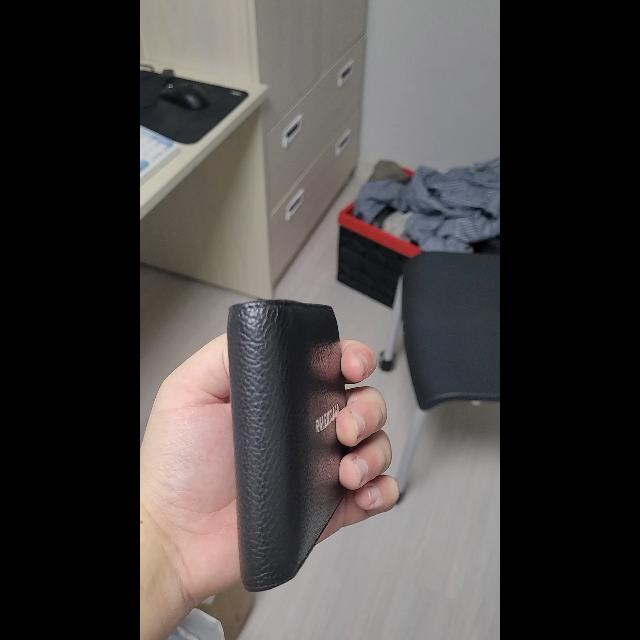WALLET: (226, 299, 350, 593)
